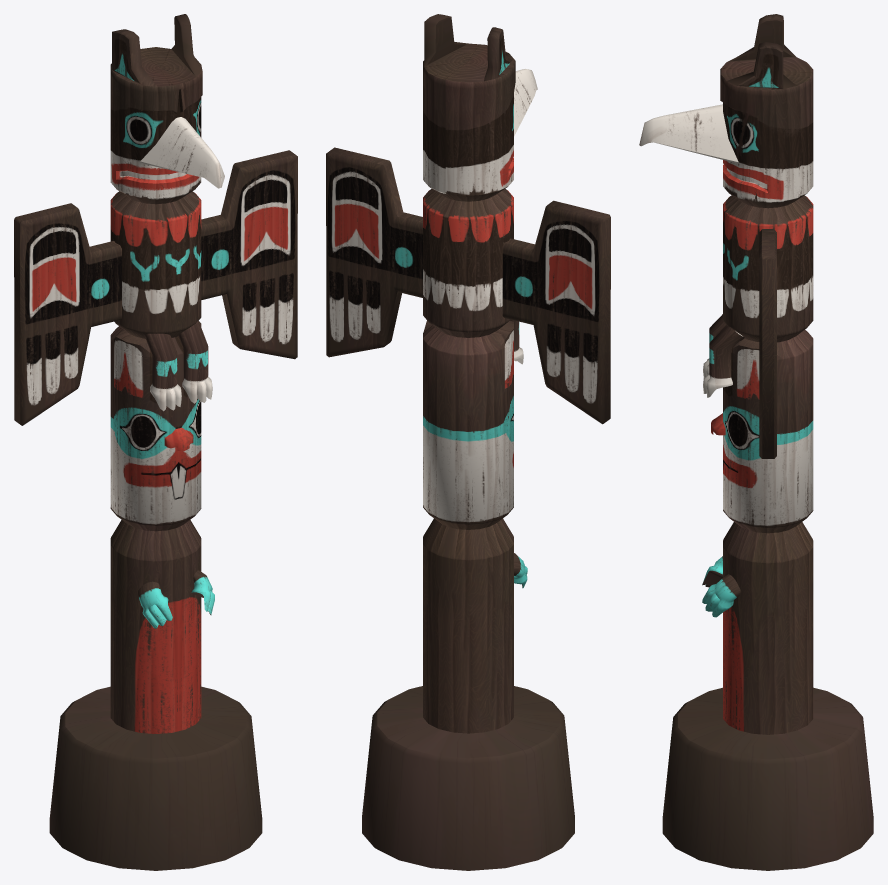
The model's file is totem pole.FBX.
The picture shows the model from 3 angles, left to right: view 1: azimuth 30°, elevation 25°; view 2: azimuth 150°, elevation 25°; view 3: azimuth 270°, elevation 25°; orthographic projection.
Visible parts, largest first — view 1: totem pole; view 2: totem pole; view 3: totem pole.
Boxes of the visible parts, <box> form: totem pole: <box>14,14,297,870</box>; totem pole: <box>326,14,610,870</box>; totem pole: <box>639,14,873,870</box>.
Size of the model in its own units: 433 by 1189 by 318.
